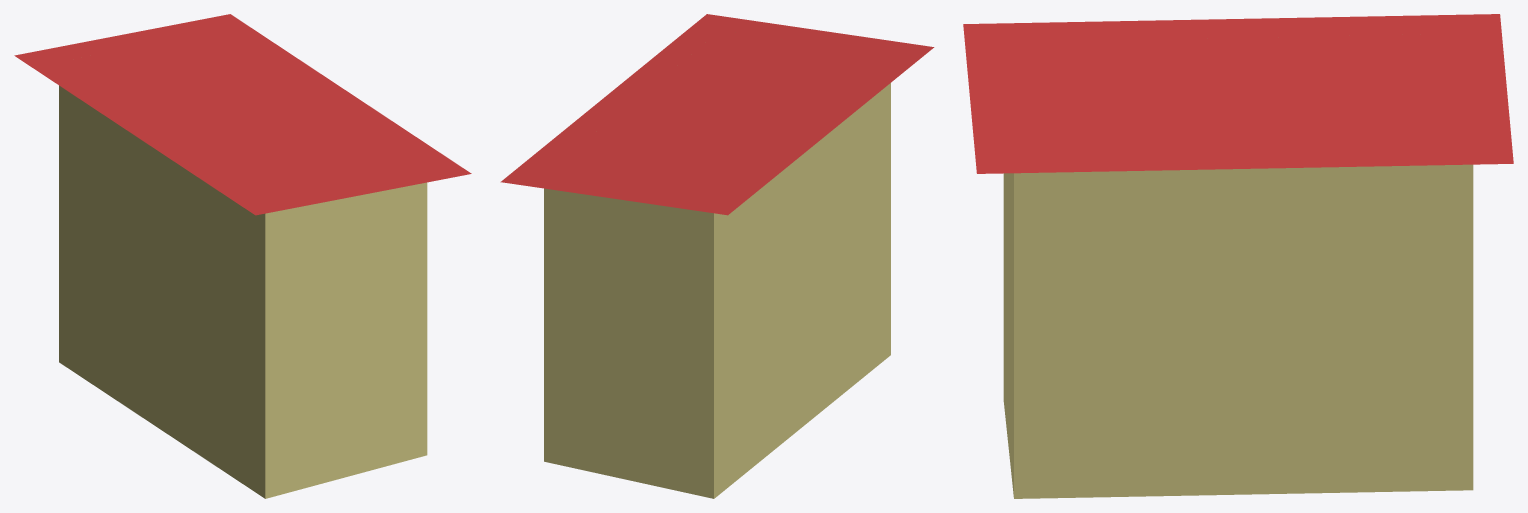
3 renders of one model, left to right at view 1: azimuth 30°, elevation 25°; view 2: azimuth 150°, elevation 25°; view 3: azimuth 270°, elevation 25°, orthographic. The views are drawn at different scales.
Size of the model in its own units: 4.26 by 7.08 by 5.14.
